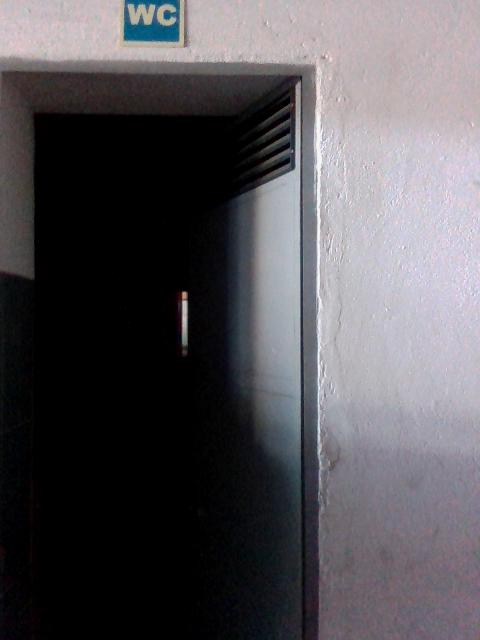semi_door: (1, 55, 316, 639)
